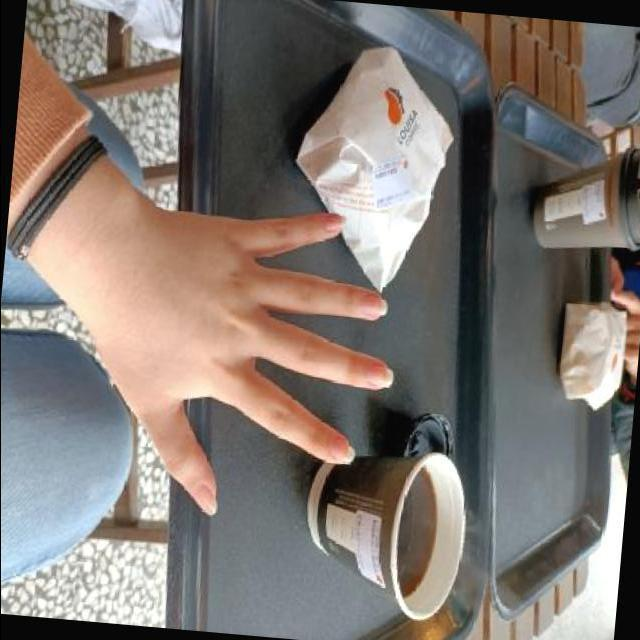hand: (54, 167, 421, 544)
